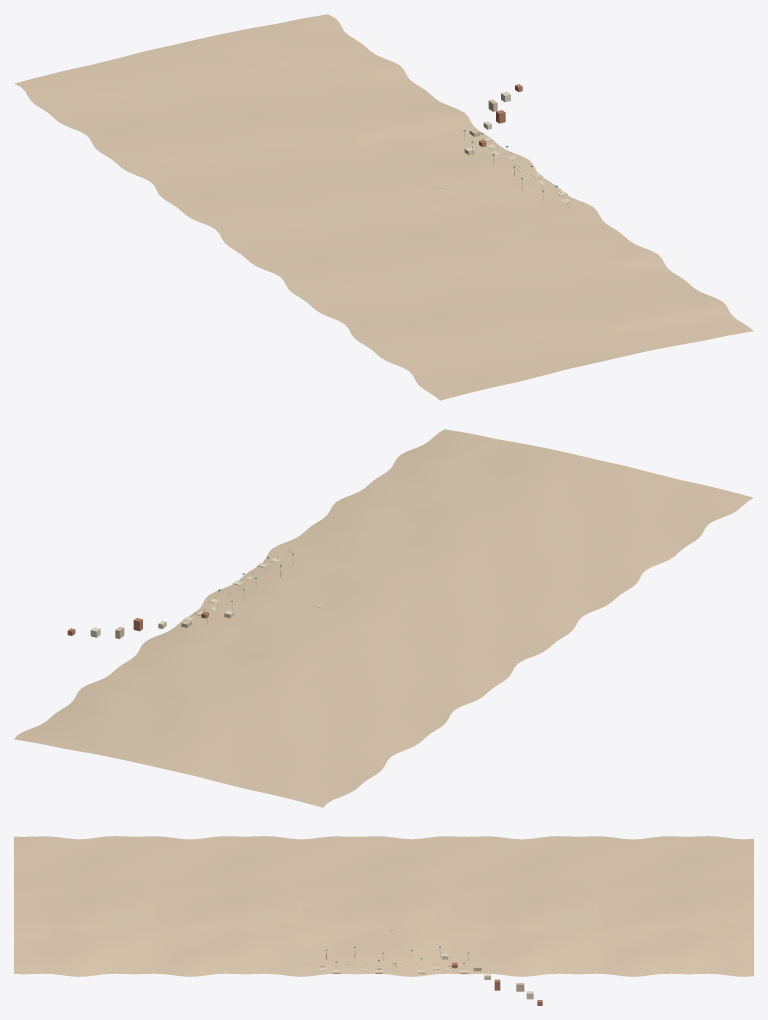
The model's file is riverbank-v1.glb.
3 views of the same model, one above another, from view 1: azimuth 30°, elevation 25°; view 2: azimuth 150°, elevation 25°; view 3: azimuth 270°, elevation 25° (orthographic). The views are drawn at different scales.
Parts seen in each view (by area): view 1: Original_Kashi_Far_Bank_531; view 2: Original_Kashi_Far_Bank_531; view 3: Original_Kashi_Far_Bank_531.
Part boxes in pixels (left/top/right/bottom): Original_Kashi_Far_Bank_531: left=14, top=14, right=753, bottom=400; Original_Kashi_Far_Bank_531: left=14, top=429, right=753, bottom=807; Original_Kashi_Far_Bank_531: left=14, top=836, right=753, bottom=1005.
Size of the model in its own units: 624 by 30.44 by 1200.
